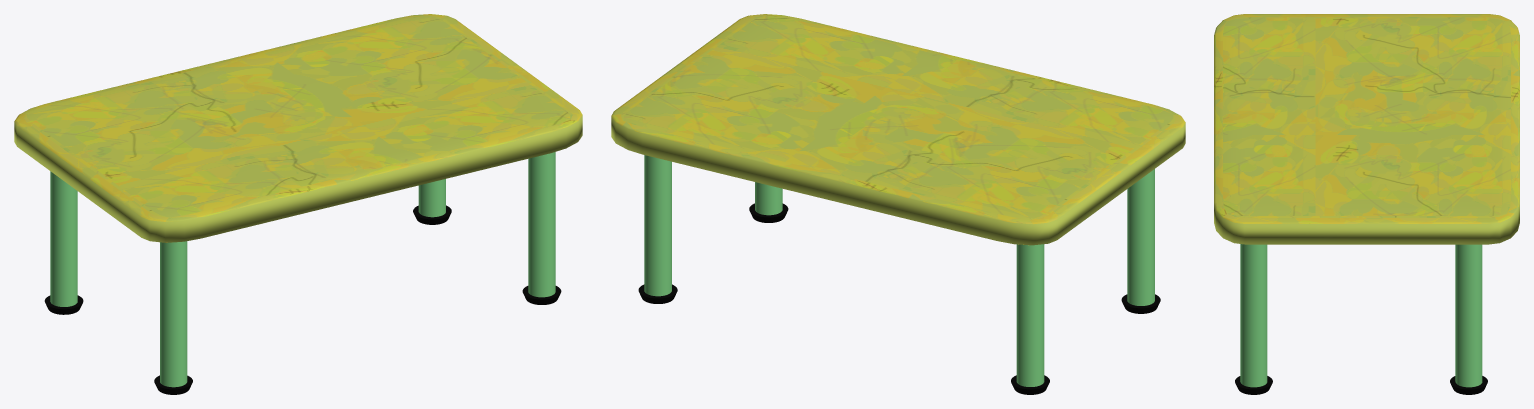
The model's file is MesaVerde.fbx.
3 renders of one model, left to right at view 1: azimuth 30°, elevation 25°; view 2: azimuth 150°, elevation 25°; view 3: azimuth 270°, elevation 25°, orthographic. The views are drawn at different scales.
Visible parts, largest first — view 1: Roundcube; view 2: Roundcube; view 3: Roundcube.
Part boxes in pixels (<box>): Roundcube: <box>14,14,582,394</box>; Roundcube: <box>611,14,1185,394</box>; Roundcube: <box>1214,14,1519,394</box>.
Bounding box in the file's own units: 1534 × 622 × 943.
Materials: 3 (1 with a texture image).
